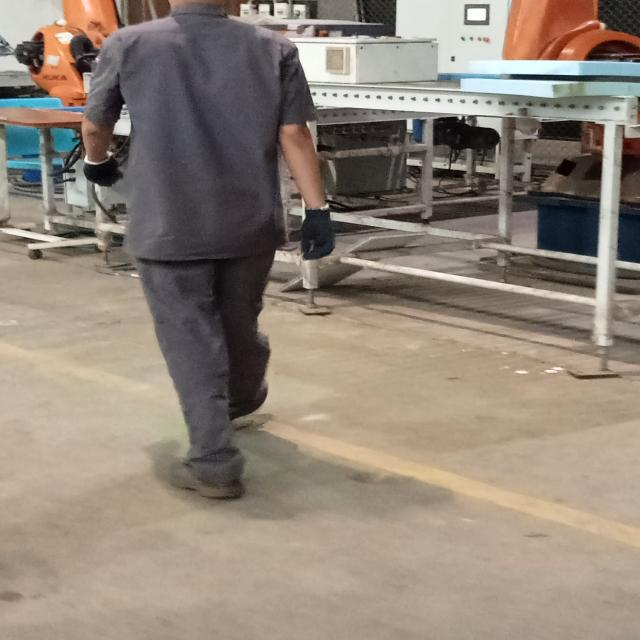Gloves-Detection: (292, 204, 327, 257), (80, 156, 117, 187)
